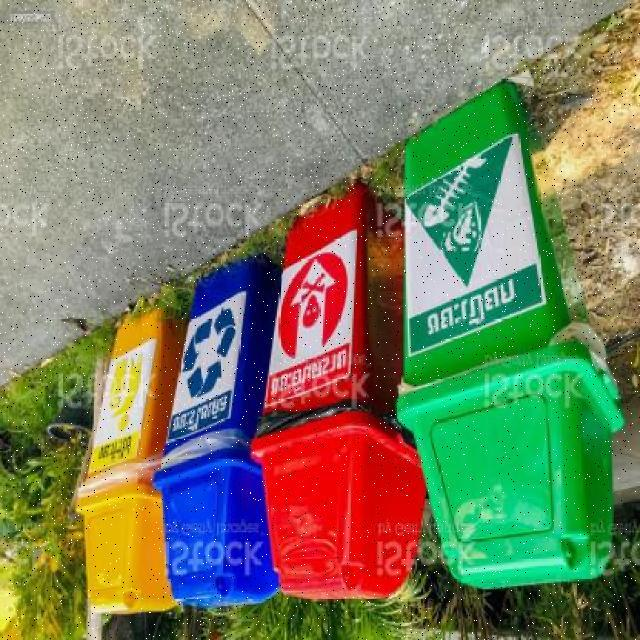garbage container: (389, 71, 631, 599), (264, 167, 404, 610), (158, 237, 281, 614), (69, 297, 180, 619)
